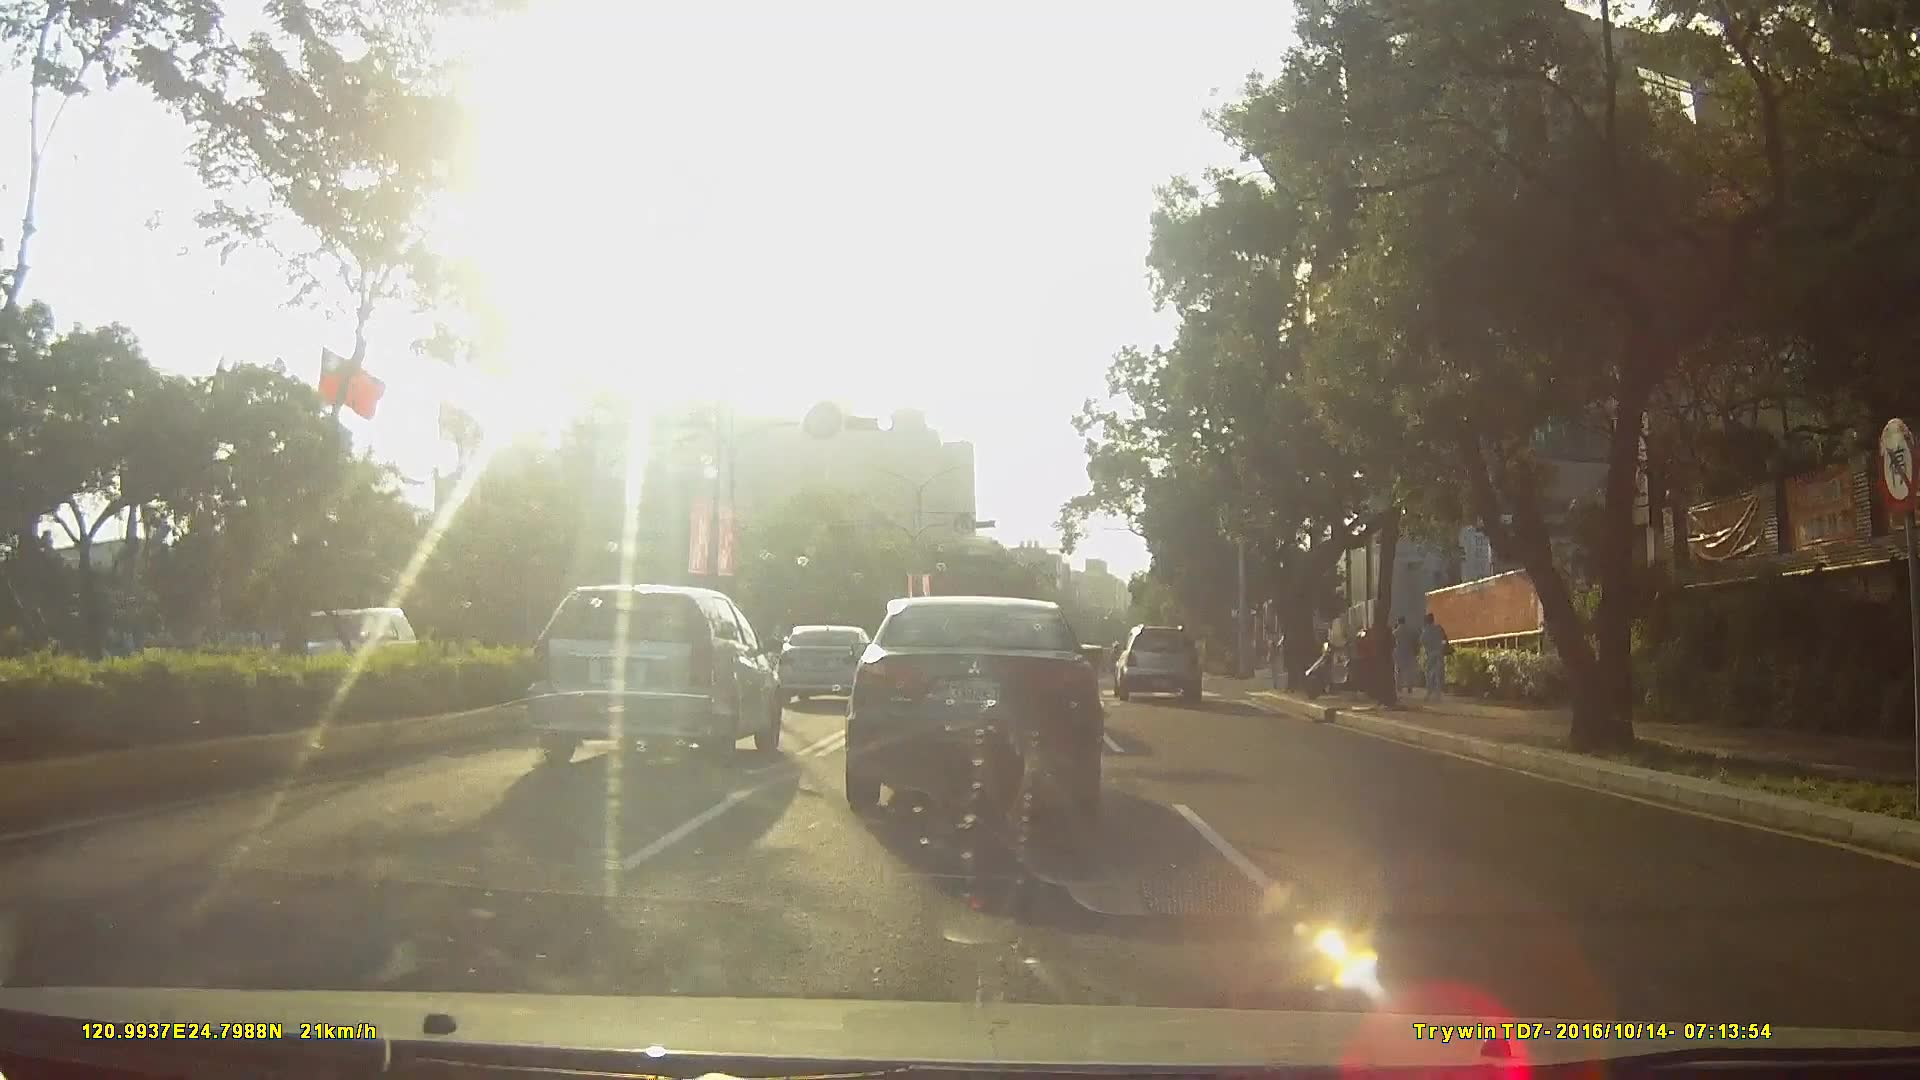pedestrian: (1418, 617, 1454, 706), (1395, 616, 1419, 694)
vehicle: (840, 596, 1104, 824), (522, 585, 781, 770), (274, 608, 425, 707), (774, 627, 876, 716), (1110, 624, 1211, 706)
